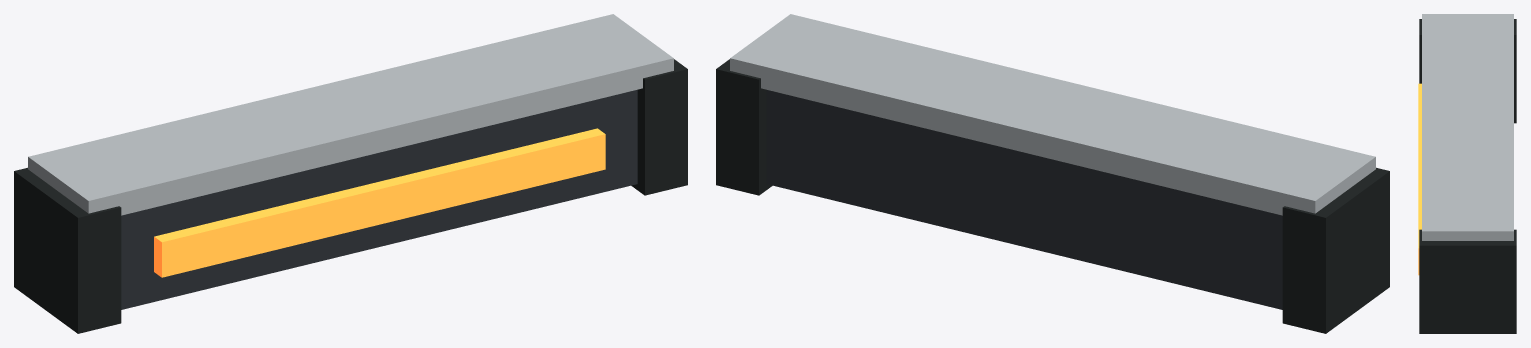
Rendered from heater.glb.
3 renders of one model, left to right at view 1: azimuth 30°, elevation 25°; view 2: azimuth 150°, elevation 25°; view 3: azimuth 270°, elevation 25°, orthographic. The views are drawn at different scales.
Visible parts, largest first — view 1: heater_top, heater_body, heating_element, heater_end_left, heater_end_right; view 2: heater_body, heater_top, heater_end_left, heater_end_right; view 3: heater_top, heater_end_right, heating_element, heater_end_left.
Boxes of the visible parts, x1,y1,x2,y2 form: heater_top: (28,14,673,215); heater_body: (121,89,637,309); heating_element: (154,128,605,277); heater_end_left: (14,167,121,333); heater_end_right: (631,59,687,195); heater_body: (766,89,1282,309); heater_top: (730,14,1375,215); heater_end_left: (1282,167,1389,333); heater_end_right: (716,59,772,195); heater_top: (1422,14,1513,240); heater_end_right: (1419,229,1516,333); heating_element: (1418,83,1421,275); heater_end_left: (1419,19,1516,123).
Size of the model in its own units: 0.99 by 0.1995 by 0.182.
